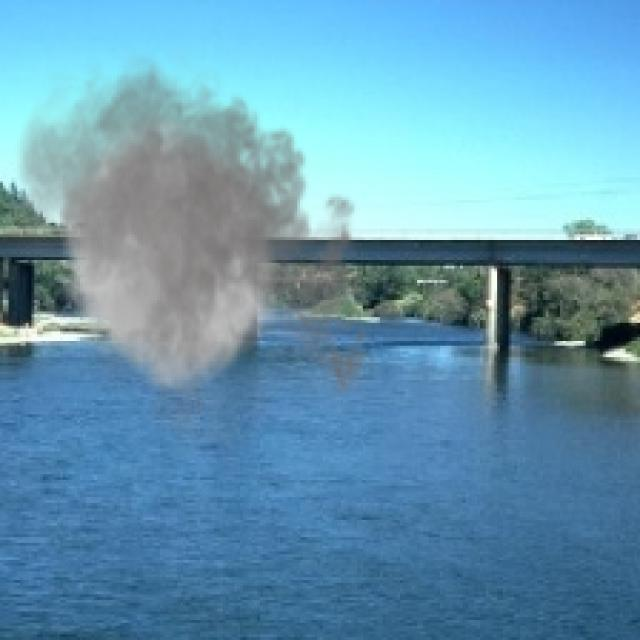Smoke: (3, 40, 380, 466)
